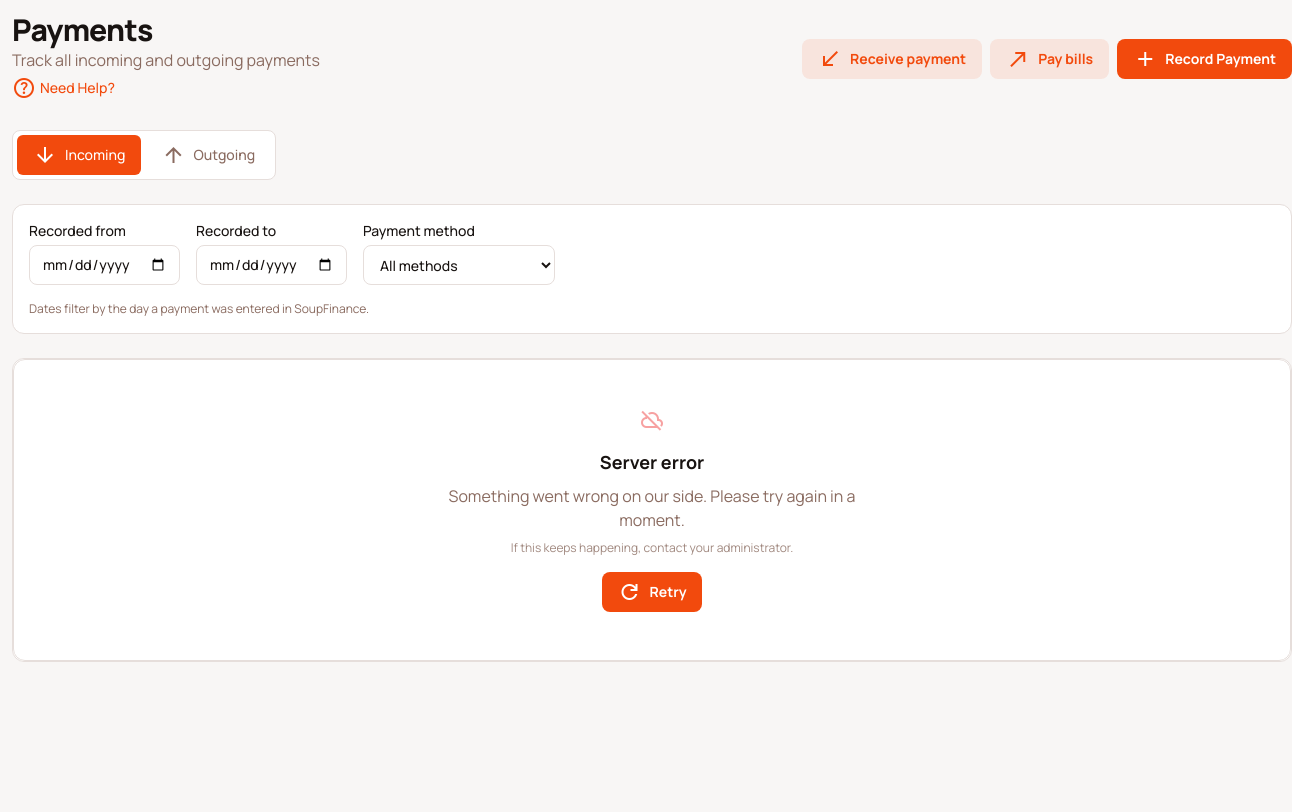
Test: PaymentListPage › other errors, branched by kind › a 500 shows the server-error state with a retry that refetches only that tab
Check: the element with test id "payment-list-error" does not show "status code", box [13,359,1291,661]
Check: the element with test id "payment-filters" is shown, box [12,204,1291,334]
Click the button with test id "payment-list-error-retry": {"x": 652, "y": 592} [602,572,702,612]
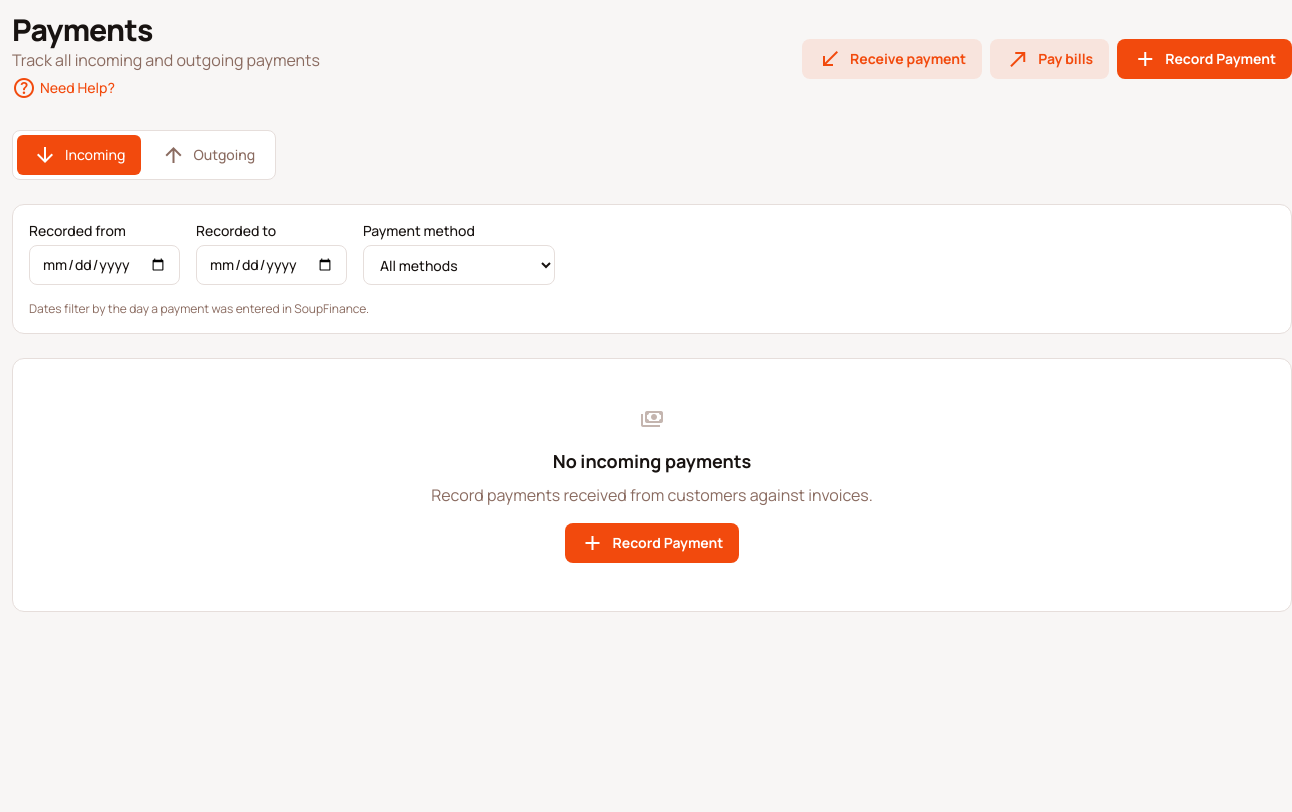
Check: the element with test id "payment-list-empty" is shown, box [431,405,873,563]
Check: the element with test id "payment-list-error" is gone
